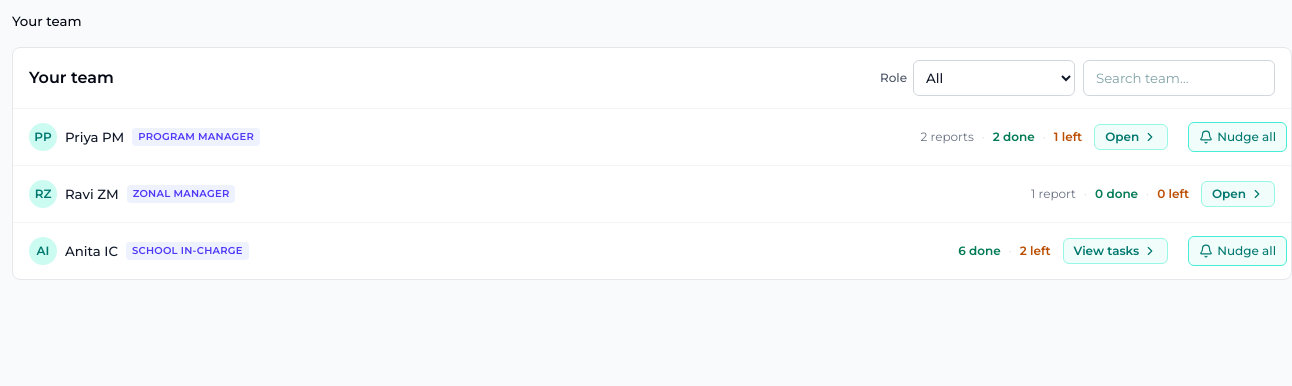
Test: TeamView — by-team drill › drills into a manager: shows their own tasks and their reports, with a breadcrumb
The width and height of the screenshot is (1292, 386).
Click the button "RZ Ravi ZM Zonal Manager 1 report · 0 done · 0 left Open" at (92, 194), box [17,166,1287,222]
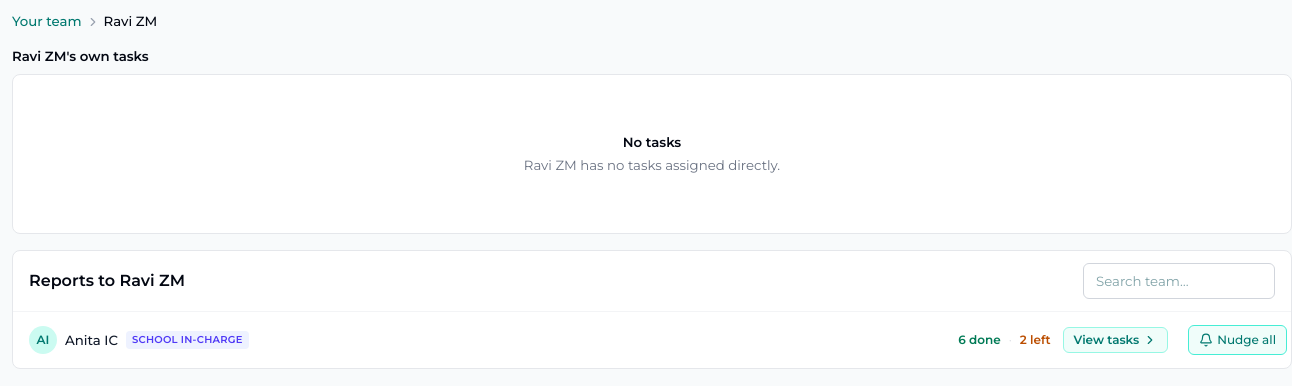
Expected: the button "AI Anita IC School In-Charge 6 done · 2 left View tasks" is shown, [17,312,1180,368]
Now the heading "Ravi ZM's own tasks" is shown, box [12,47,149,66]
